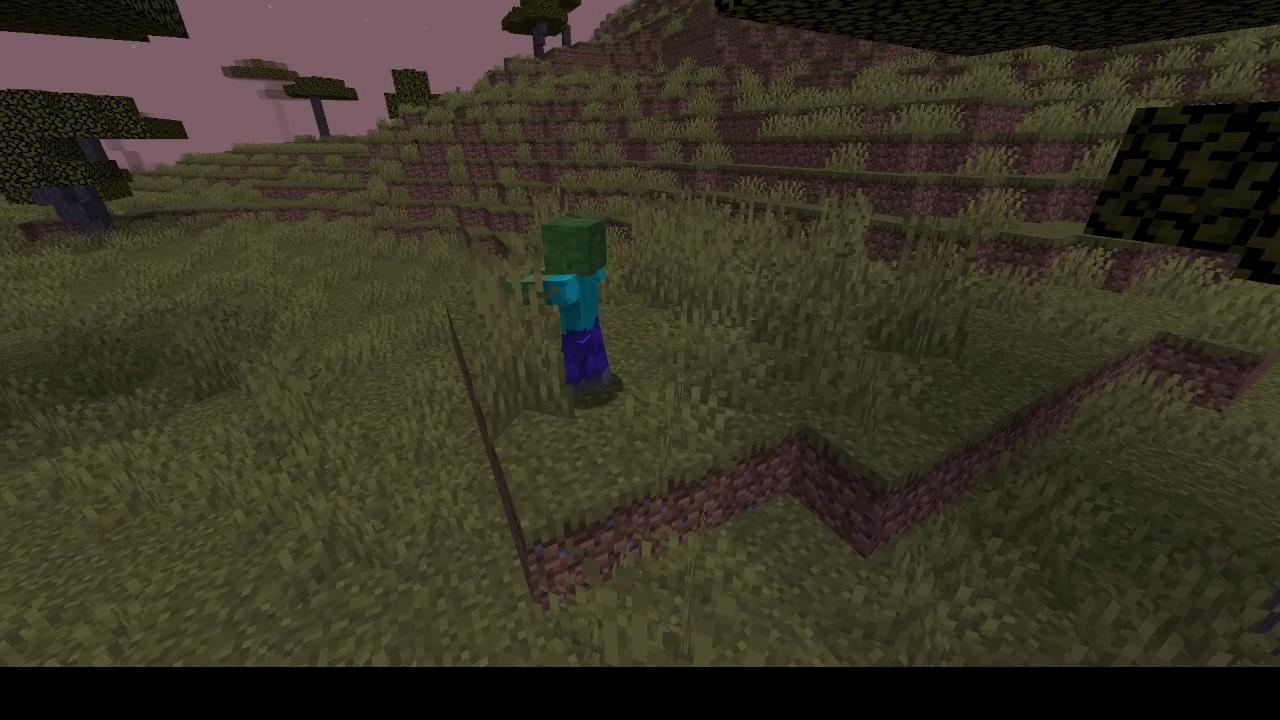zombie: (516, 214, 621, 405)
